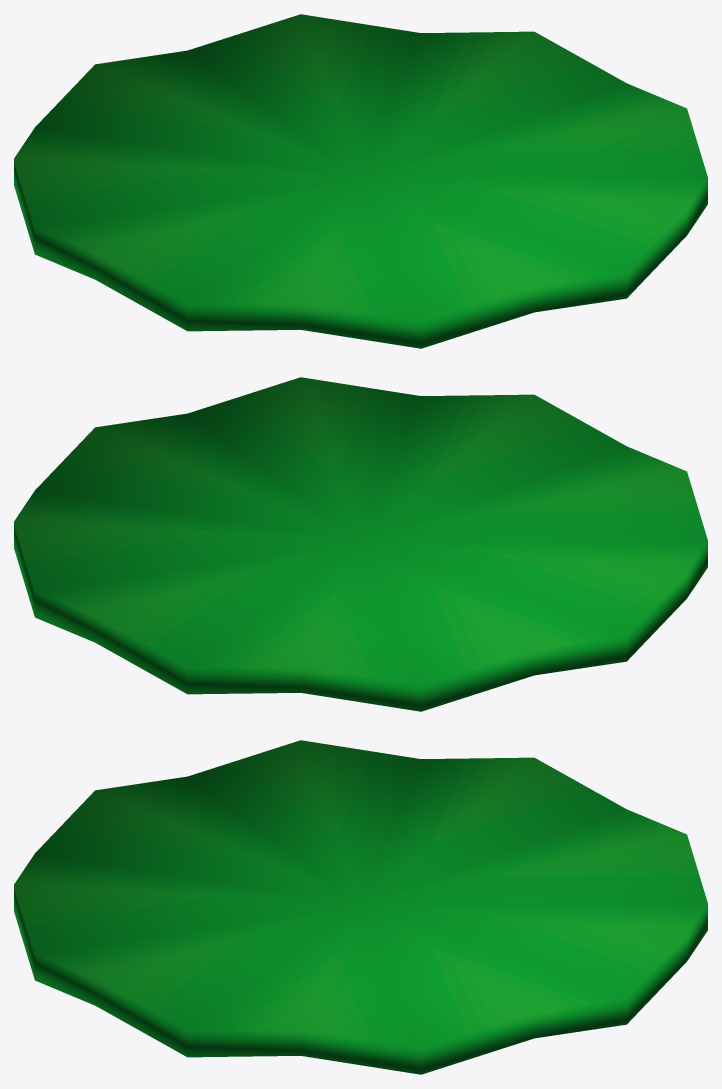
The model's file is Lettuce_leaf.fbx.
3 renders of one model, top to bottom at view 1: azimuth 30°, elevation 25°; view 2: azimuth 150°, elevation 25°; view 3: azimuth 270°, elevation 25°, orthographic.
Parts seen in each view (by area): view 1: Lettuce_leaf; view 2: Lettuce_leaf; view 3: Lettuce_leaf.
Part boxes in pixels (x1,y1,x2,y2): Lettuce_leaf: (14,14,707,348); Lettuce_leaf: (14,377,707,711); Lettuce_leaf: (14,740,707,1074).
Bounding box in the file's own units: 99.66 × 101 × 7.36.
